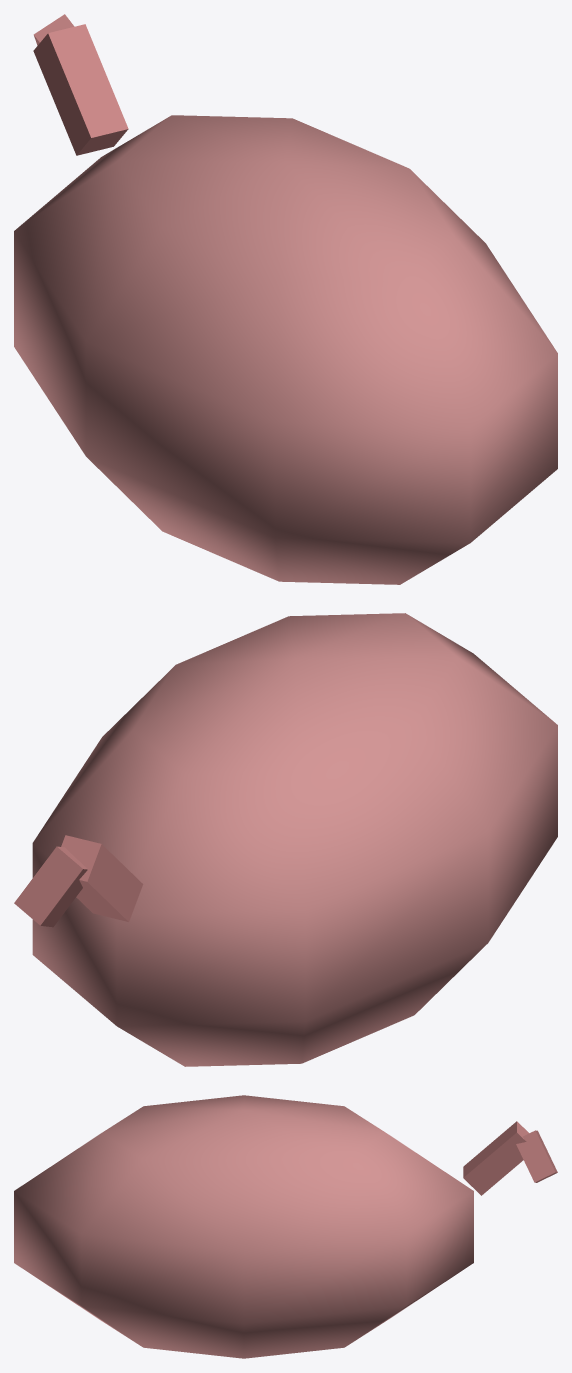
The model's file is crf_pig.glb.
3 renders of one model, top to bottom at view 1: azimuth 30°, elevation 25°; view 2: azimuth 150°, elevation 25°; view 3: azimuth 270°, elevation 25°, orthographic. The views are drawn at different scales.
Visible parts, largest first — view 1: crf_pig; view 2: crf_pig; view 3: crf_pig.
Boxes of the visible parts, <box> form: crf_pig: <box>14,14,557,584</box>; crf_pig: <box>14,613,557,1066</box>; crf_pig: <box>14,1095,557,1358</box>.
Size of the model in its own units: 0.0856 by 0.0765 by 0.162.
